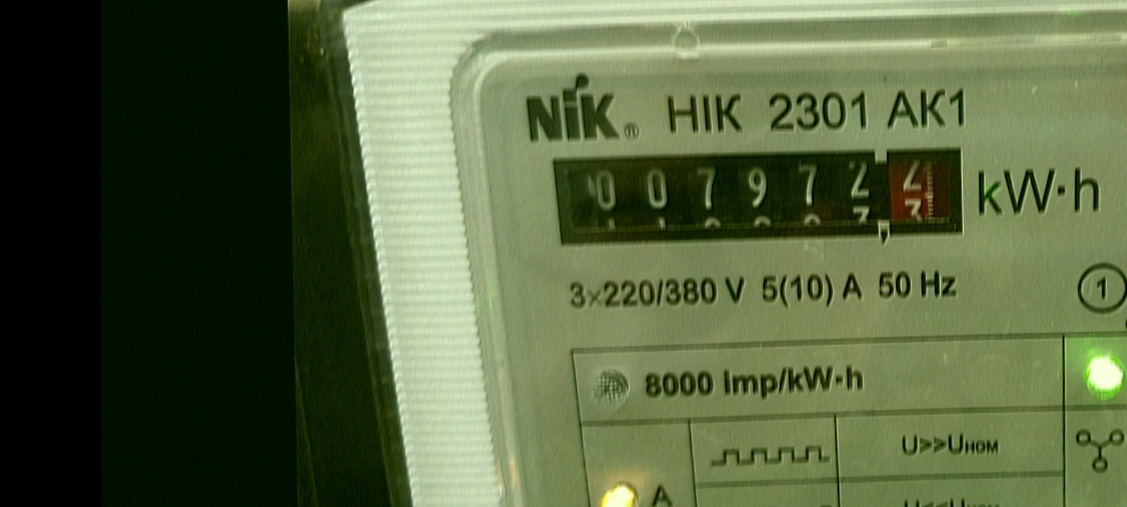0: (593, 168, 620, 209), (645, 166, 670, 208)
2: (848, 160, 872, 198), (900, 159, 923, 193)
3: (902, 196, 925, 221)
7: (796, 161, 822, 207), (695, 164, 720, 210)
9: (745, 164, 769, 207)
screen: (537, 135, 981, 259)
